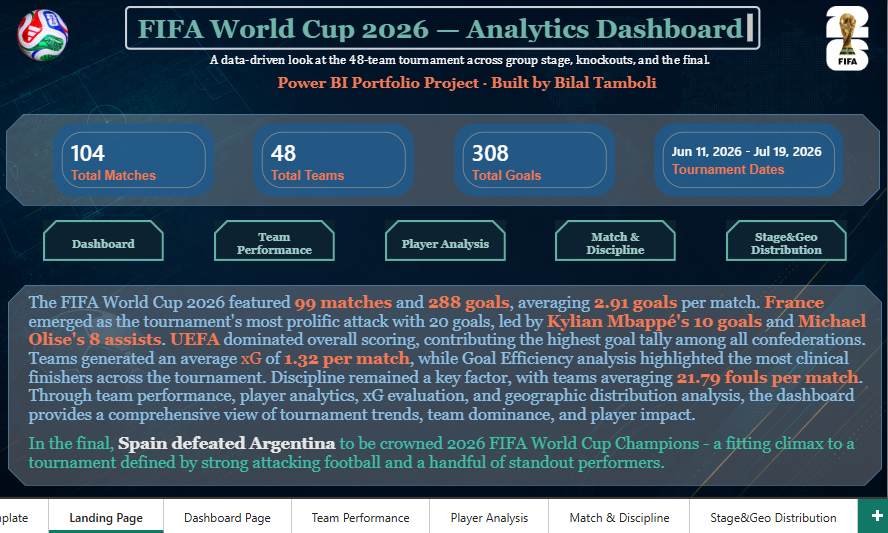

Layout of this report page (visuals, bound fields, positions):
{"tool":"powerbi","page":{"name":"Landing Page","canvas":[1280,720],"ordinal":1},"visuals":[{"type":"image","box":[1161.4,10,118.3,93.3],"z":0},{"type":"textbox","box":[181.4,10.1,915,63.3],"z":1000},{"type":"textbox","box":[214.6,72,898.6,63.4],"z":2000},{"type":"image","title":"Navigation","box":[0,10.1,125.3,80.6],"z":3000},{"type":"textbox","box":[326.9,103.7,694.1,49],"z":4000},{"type":"shape","box":[10.1,165.6,1258.6,132.5],"z":5000},{"type":"cardVisual","fields":{"Data":["_Measures.Total Matches"]},"box":[73.4,174.2,241.9,115.2],"z":6000},{"type":"cardVisual","fields":{"Data":["_Measures.Total Teams"]},"box":[361.9,174.2,241.9,115.2],"z":7000},{"type":"cardVisual","fields":{"Data":["_Measures.Total Goals"]},"box":[650.4,174.2,241.9,115.2],"z":8000},{"type":"cardVisual","fields":{"Data":["_Measures.Tournament Dates"]},"box":[938.9,174.2,282.2,115.2],"z":9000},{"type":"actionButton","box":[63.4,318.2,174,59],"z":10000},{"type":"actionButton","box":[309.2,318.2,174,59],"z":11000},{"type":"actionButton","box":[555.1,318.2,174,59],"z":12000},{"type":"actionButton","box":[801,318.2,174,59],"z":13000},{"type":"actionButton","box":[1046.9,318.2,174,59],"z":14000},{"type":"shape","box":[13,411.8,1258.6,289.4],"z":15000},{"type":"textbox","box":[37.4,417.6,1225.4,277.9],"z":16000}]}

Visuals, with their boxes on the page's 1280x720 design canvas (x1, y1, x2, y2). These are canvas units, not pixel positions in the 888x533 screenshot, which may show the page scaled, cropped or inside an application window:
image: [1161,10,1280,103]
textbox: [181,10,1096,73]
textbox: [215,72,1113,135]
"Navigation" image: [0,10,125,91]
textbox: [327,104,1021,153]
shape: [10,166,1269,298]
cardVisual - _Measures.Total Matches: [73,174,315,289]
cardVisual - _Measures.Total Teams: [362,174,604,289]
cardVisual - _Measures.Total Goals: [650,174,892,289]
cardVisual - _Measures.Tournament Dates: [939,174,1221,289]
actionButton: [63,318,237,377]
actionButton: [309,318,483,377]
actionButton: [555,318,729,377]
actionButton: [801,318,975,377]
actionButton: [1047,318,1221,377]
shape: [13,412,1272,701]
textbox: [37,418,1263,696]
